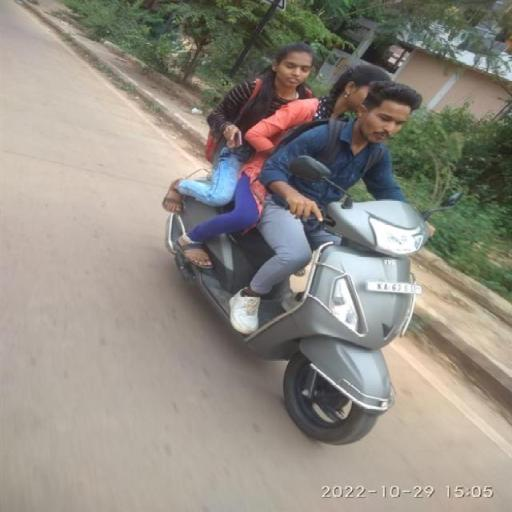tripple riding: (189, 35, 432, 227)
